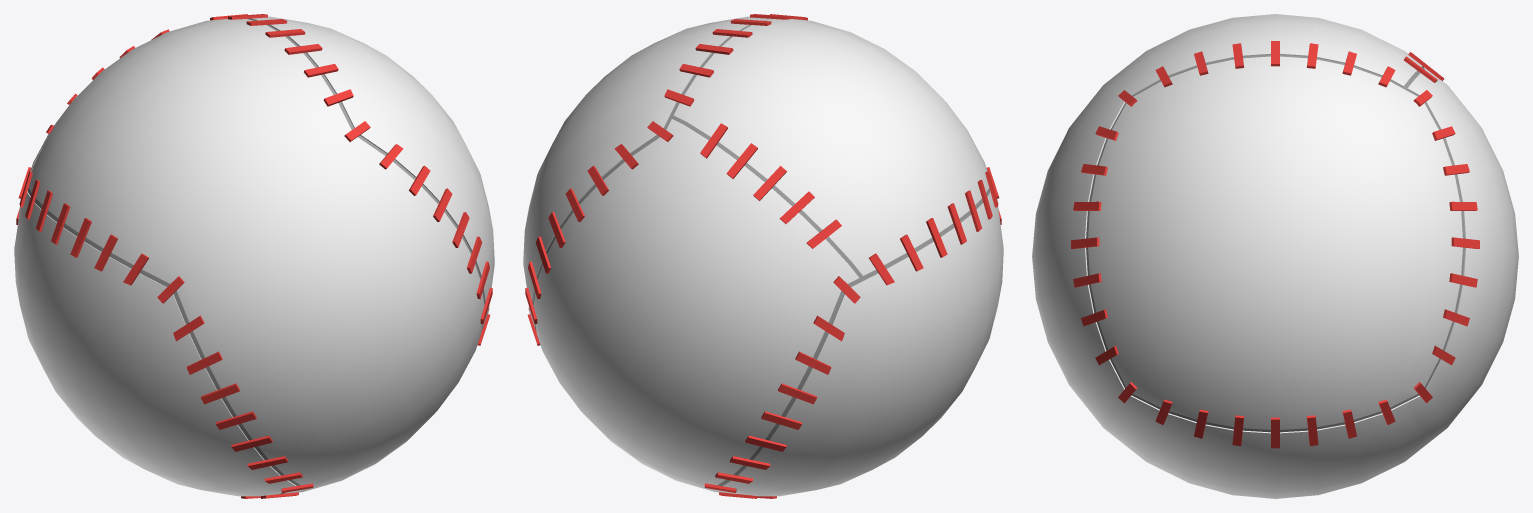
Rendered from baseball.fbx.
3 views of the same model, side by side, from view 1: azimuth 30°, elevation 25°; view 2: azimuth 150°, elevation 25°; view 3: azimuth 270°, elevation 25° (orthographic).
Parts seen in each view (by area): view 1: Roundcube.066; view 2: Roundcube.066; view 3: Roundcube.066.
Part boxes in pixels (x1,y1,x2,y2): Roundcube.066: (14, 14, 494, 498); Roundcube.066: (523, 14, 1003, 498); Roundcube.066: (1032, 14, 1518, 498).
Bounding box in the file's own units: 200 × 201 × 200.
1 material, 1 textured.
